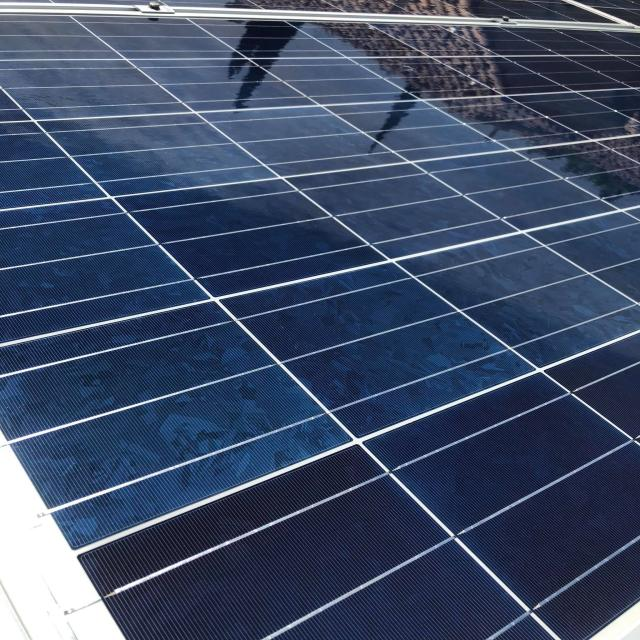clean-solar-panel: (2, 15, 638, 640)
